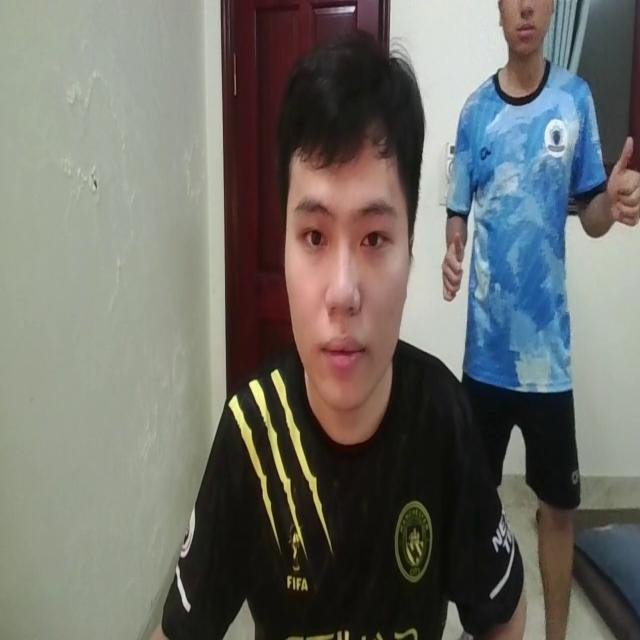extra_person: (436, 2, 640, 640)
student: (131, 37, 525, 640)
